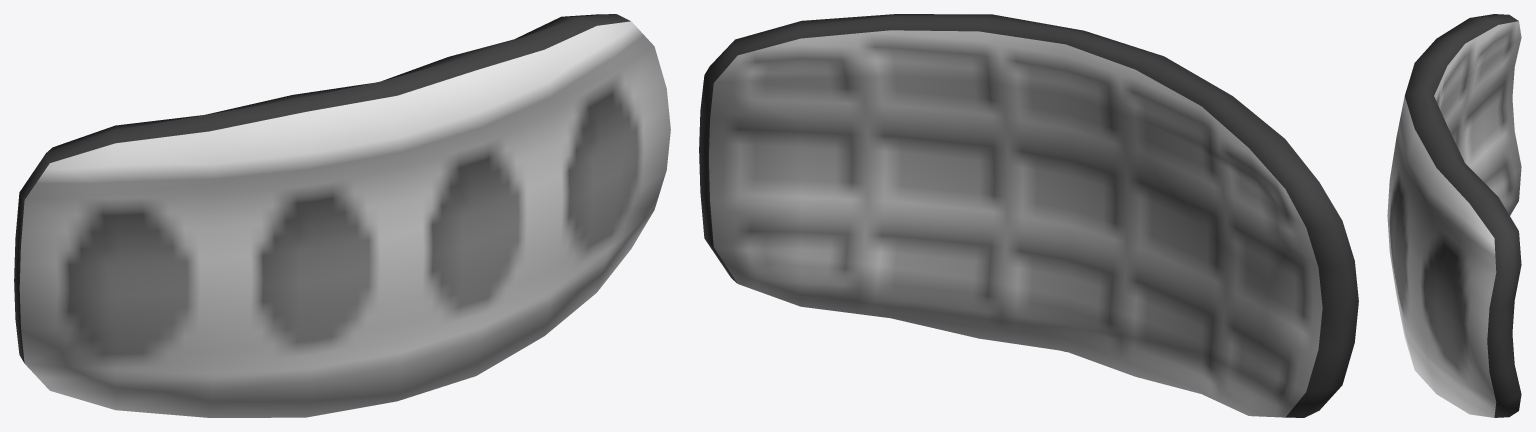
The model's file is portico7.obj.
The picture shows the model from 3 angles, left to right: view 1: azimuth 30°, elevation 25°; view 2: azimuth 150°, elevation 25°; view 3: azimuth 270°, elevation 25°; orthographic projection. The views are drawn at different scales.
Visible parts, largest first — view 1: ColobotMesh_1.001_ColobotMesh_.001; view 2: ColobotMesh_1.001_ColobotMesh_.001; view 3: ColobotMesh_1.001_ColobotMesh_.001.
Boxes of the visible parts, <box> form: ColobotMesh_1.001_ColobotMesh_.001: <box>14,14,670,417</box>; ColobotMesh_1.001_ColobotMesh_.001: <box>699,14,1358,417</box>; ColobotMesh_1.001_ColobotMesh_.001: <box>1387,14,1521,417</box>.
Size of the model in its own units: 8.39 by 3.94 by 1.89.
